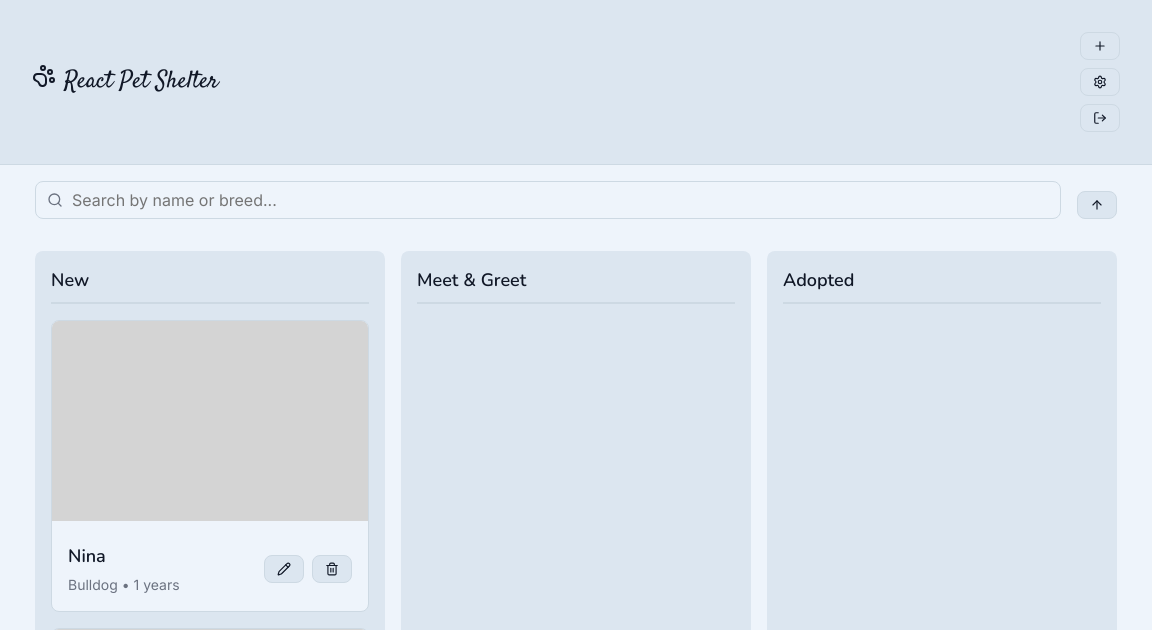
App integration › navigates to settings page
Click the button named "Settings". click: (1100, 82)
box: [1080,68,1120,96]
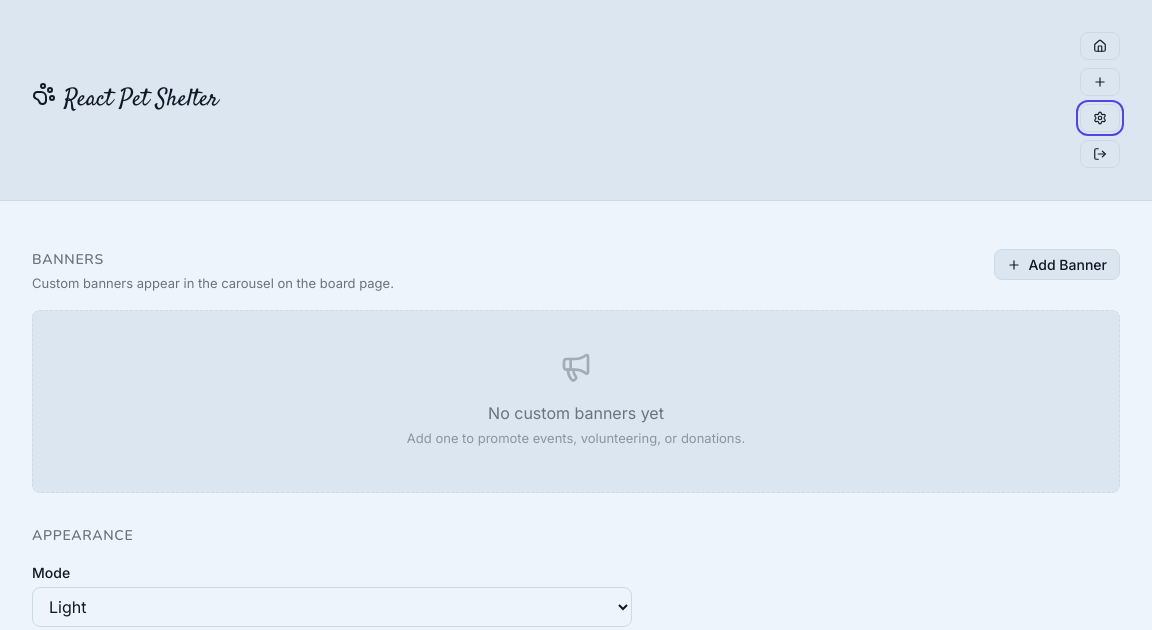
Check: the heading "Appearance" is shown, box [32,526,133,545]
Check: the button named "Home" is shown, box [1080,32,1120,60]
